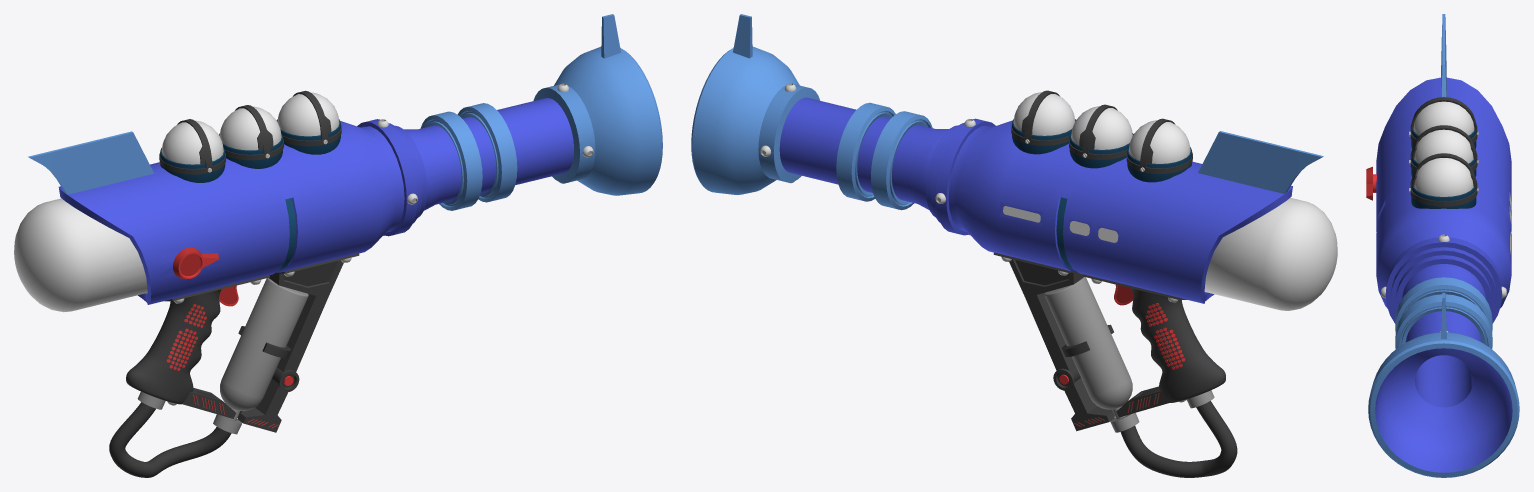
File: 6 HW detalization.fbx
3 renders of one model, left to right at view 1: azimuth 30°, elevation 25°; view 2: azimuth 150°, elevation 25°; view 3: azimuth 270°, elevation 25°, orthographic.
Visible parts, largest first — view 1: BASE.005, DULO.003, BASE BACK .001, RUKOYAT FRONT BALLON.001, BASE Sphere, RUKOYAT BACK.006, DULO Cylinder.003, BACK PRICEL.002, RUKOYAT FRONT TOP, RUKOYAT BACK.002 BezierCurve, DULO Cylinder.004, BASE Cylinder HORIZONTAL.001 (+8 smaller); view 2: BASE.005, DULO.003, BASE BACK .001, RUKOYAT FRONT BALLON.001, BASE Sphere, RUKOYAT BACK.006, DULO Cylinder.003, BACK PRICEL.002, RUKOYAT BACK.002 BezierCurve, RUKOYAT FRONT TOP, DULO Cylinder.004, BASE Cylinder HORIZONTAL.001 (+7 smaller); view 3: DULO.003, BASE.005, BASE Sphere, DULO Cylinder.003, DULO Cylinder, BASE Cylinder VERTICAL.002, DULO Cylinder.001, DULO Cylinder.002, BASE Cylinder HORIZONTAL.001, BASE Cylinder HORIZONTAL UZ, BACK PRICEL.002, DULO PRICEL (+2 smaller).
Part boxes in pixels (<box>): BASE.005: <box>58,121,404,304</box>; DULO.003: <box>404,46,662,210</box>; BASE BACK .001: <box>14,198,147,312</box>; RUKOYAT FRONT BALLON.001: <box>220,278,308,411</box>; BASE Sphere: <box>161,92,339,164</box>; RUKOYAT BACK.006: <box>126,289,221,404</box>; DULO Cylinder.003: <box>420,103,517,210</box>; BACK PRICEL.002: <box>28,131,154,194</box>; RUKOYAT FRONT TOP: <box>268,260,343,371</box>; RUKOYAT BACK.002 BezierCurve: <box>109,402,231,477</box>; DULO Cylinder.004: <box>533,84,595,183</box>; BASE Cylinder HORIZONTAL.001: <box>160,119,340,182</box>; BASE.005: <box>948,120,1292,303</box>; DULO.003: <box>691,46,948,209</box>; BASE BACK .001: <box>1204,197,1337,310</box>; RUKOYAT FRONT BALLON.001: <box>1044,277,1132,409</box>; BASE Sphere: <box>1013,92,1190,163</box>; RUKOYAT BACK.006: <box>1131,288,1225,402</box>; DULO Cylinder.003: <box>836,102,932,210</box>; BACK PRICEL.002: <box>1198,131,1323,193</box>; RUKOYAT BACK.002 BezierCurve: <box>1120,401,1237,477</box>; RUKOYAT FRONT TOP: <box>1009,259,1083,370</box>; DULO Cylinder.004: <box>758,84,819,182</box>; BASE Cylinder HORIZONTAL.001: <box>1012,119,1191,182</box>; DULO.003: <box>1368,264,1519,477</box>; BASE.005: <box>1376,77,1511,308</box>; BASE Sphere: <box>1413,101,1474,196</box>; DULO Cylinder.003: <box>1395,277,1492,349</box>; DULO Cylinder: <box>1385,237,1502,323</box>; BASE Cylinder VERTICAL.002: <box>1410,97,1477,189</box>; DULO Cylinder.001: <box>1391,247,1496,317</box>; DULO Cylinder.002: <box>1396,255,1491,310</box>; BASE Cylinder HORIZONTAL.001: <box>1411,129,1476,208</box>; BASE Cylinder HORIZONTAL UZ: <box>1410,131,1477,206</box>; BACK PRICEL.002: <box>1441,14,1446,97</box>; DULO PRICEL: <box>1441,292,1446,339</box>.
Bounding box in the file's own units: 469 × 261 × 104.
